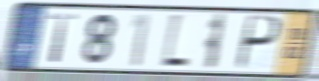1: (206, 12, 228, 73), (130, 13, 152, 69)
8: (81, 12, 118, 68)
L: (159, 11, 192, 71)
P: (234, 14, 284, 72)
T: (47, 12, 80, 65)
